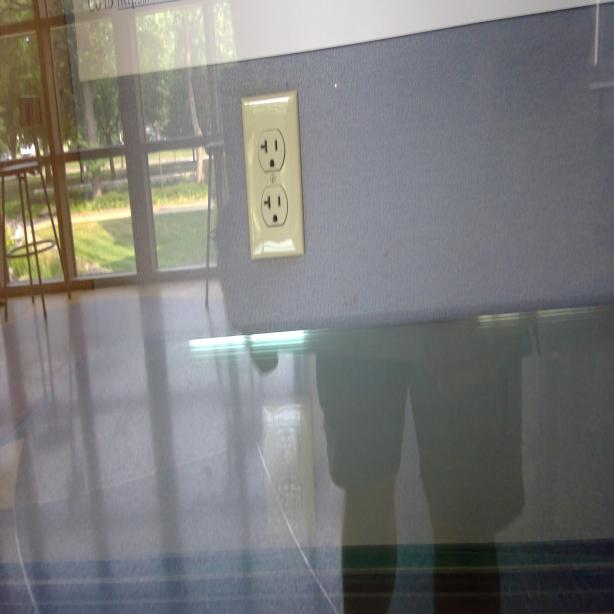typeb: (258, 132, 284, 170), (262, 191, 285, 228)
